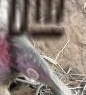text: (24, 63, 43, 84)
